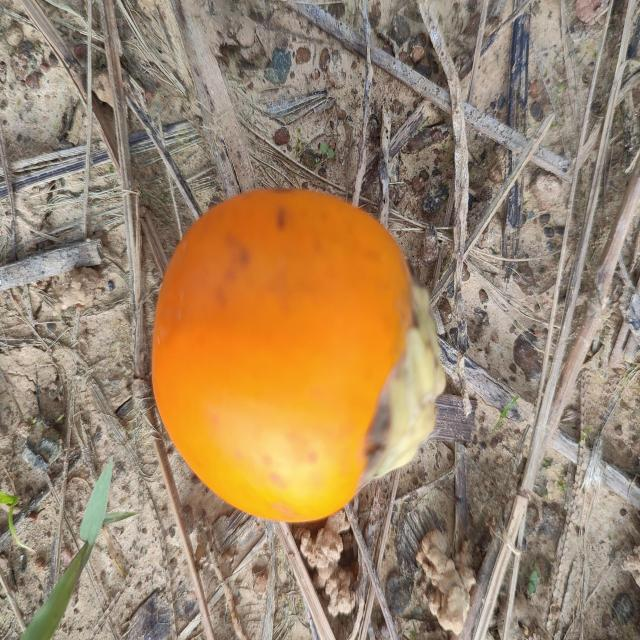good: (150, 189, 447, 526)
